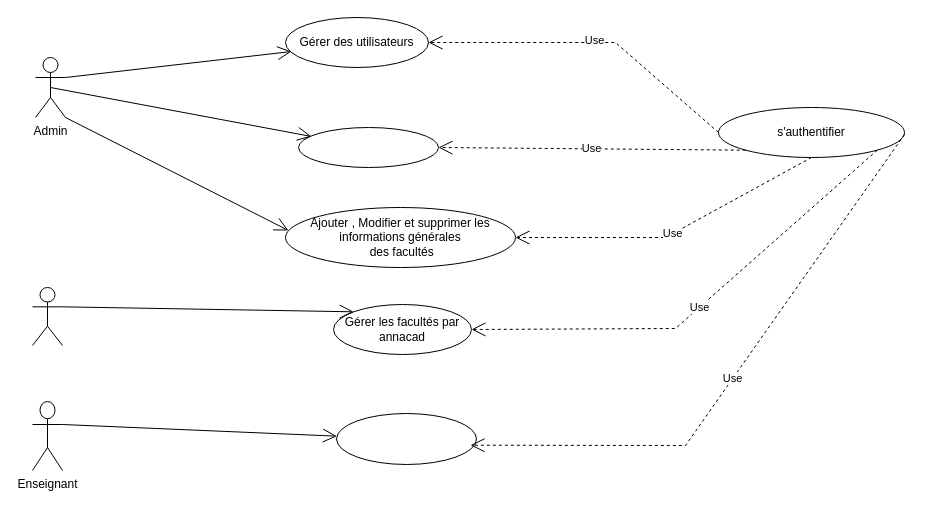
The diagram is 936 pixels wide and 524 high, and some of its shapes have lost their labels. Each missing label, with the centre of its shape:
"Ajouter les domaines" goes at (368,147).
"Completer disponibilité" goes at (406,438).
"Encadreur" goes at (47,316).
